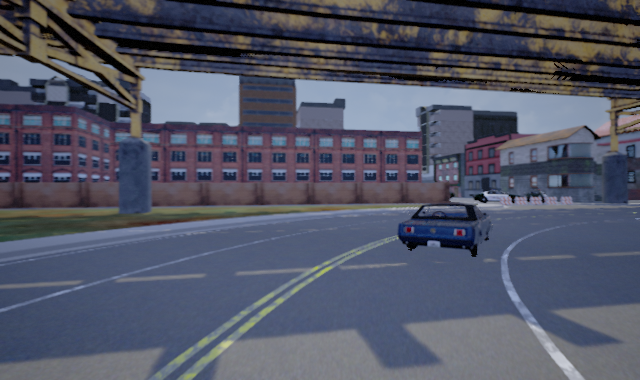vehicle: (396, 200, 493, 257)
